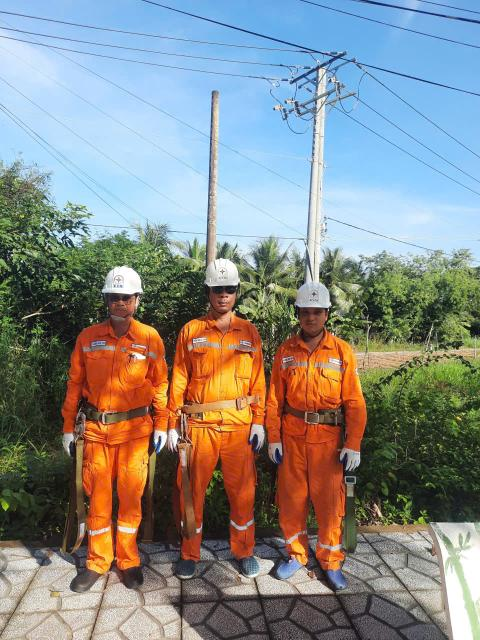gloves: (337, 445, 371, 474), (57, 430, 88, 461), (260, 439, 286, 469), (243, 426, 267, 454), (163, 431, 180, 454), (154, 426, 165, 456)
harness: (277, 394, 353, 435), (80, 396, 164, 431), (179, 391, 264, 422)
helmet: (87, 258, 153, 310), (281, 272, 345, 321), (186, 258, 252, 291)
shoes: (63, 554, 107, 597), (317, 557, 356, 598), (232, 545, 263, 587), (113, 557, 148, 593), (274, 547, 304, 583), (175, 551, 198, 583)
